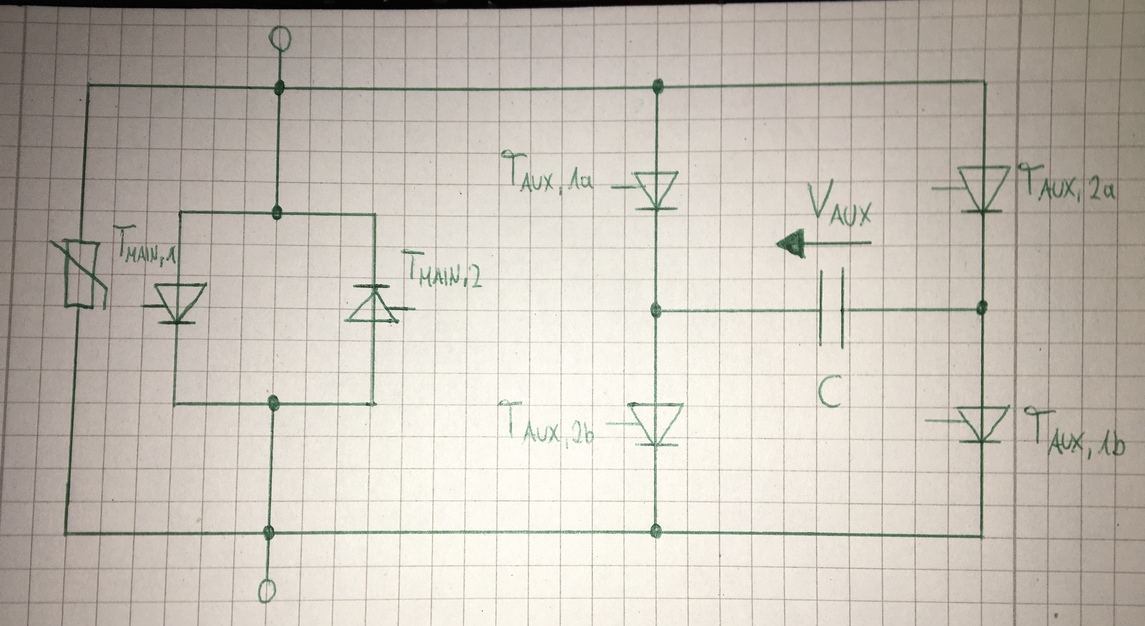capacitor.unpolarized: (812, 265, 854, 353)
junction: (271, 77, 288, 98), (260, 523, 278, 541), (266, 394, 283, 413), (650, 77, 667, 96), (648, 300, 664, 320), (974, 297, 989, 317), (648, 522, 664, 540), (270, 202, 284, 222), (975, 529, 988, 543), (169, 396, 181, 411), (978, 75, 991, 88), (365, 397, 379, 409), (60, 527, 72, 539), (369, 208, 380, 221), (83, 78, 94, 90), (175, 207, 186, 218)
terminal: (266, 21, 294, 53), (256, 574, 278, 607)
text: (1022, 403, 1129, 462), (494, 396, 597, 452), (498, 147, 596, 198), (1016, 159, 1120, 206), (399, 246, 486, 291), (805, 176, 876, 229), (111, 222, 177, 269), (815, 371, 846, 410)
thyristor: (624, 398, 688, 450), (953, 162, 1013, 217), (150, 279, 212, 328), (341, 280, 404, 328), (627, 167, 685, 215), (951, 403, 1014, 447)
varistor: (46, 234, 111, 315)
